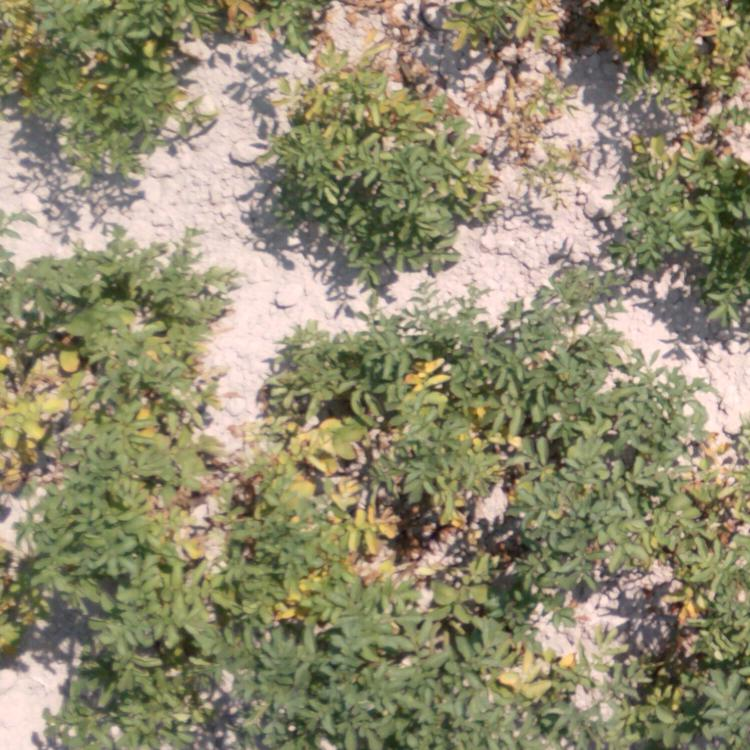healthy: (89, 633, 473, 742), (530, 348, 640, 566), (74, 477, 176, 604), (308, 157, 440, 249), (637, 227, 750, 307)
stressed: (195, 466, 469, 630), (1, 242, 190, 467), (257, 311, 522, 449), (6, 2, 216, 163), (606, 577, 746, 748), (488, 575, 596, 747), (453, 5, 562, 170), (647, 379, 740, 563), (297, 49, 440, 144), (605, 1, 745, 80), (639, 116, 739, 194), (221, 2, 405, 40), (1, 507, 54, 632)
